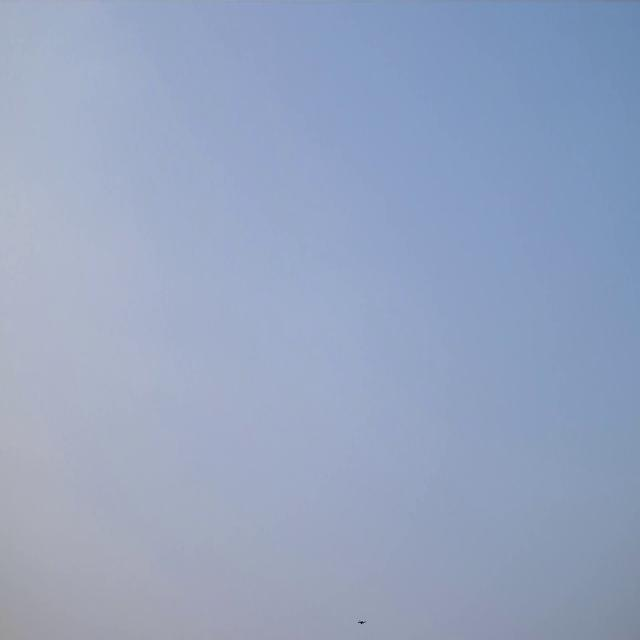UAV: (357, 619, 367, 626)
